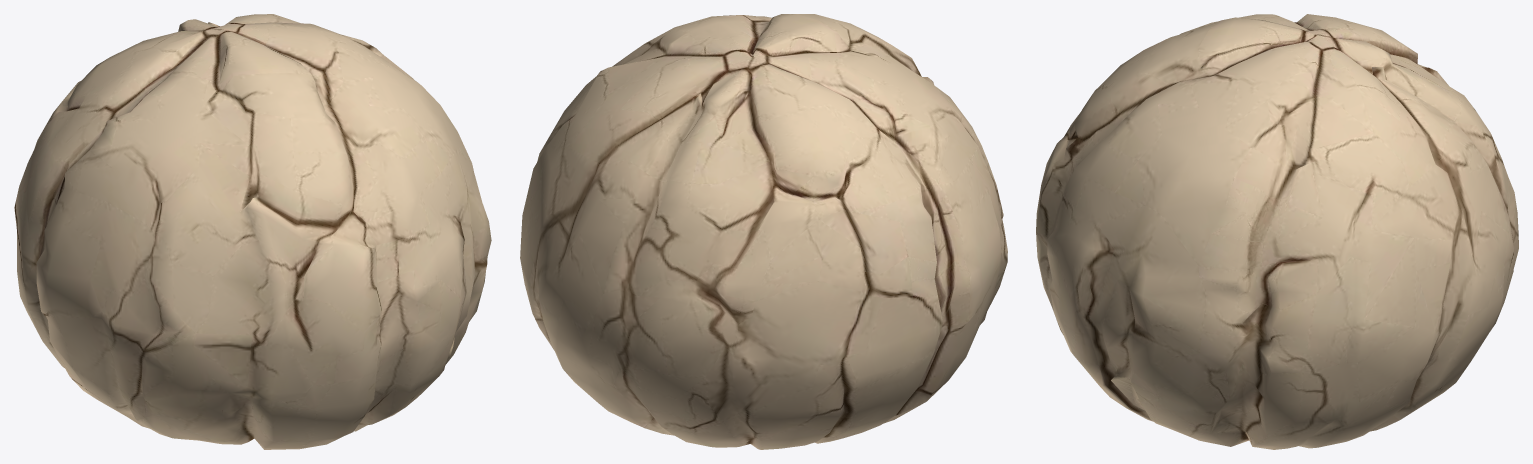
Rendered from fossil.glb.
3 views of the same model, side by side, from view 1: azimuth 30°, elevation 25°; view 2: azimuth 150°, elevation 25°; view 3: azimuth 270°, elevation 25° (orthographic). The views are drawn at different scales.
Bounding box in the file's own units: 0.957 × 0.7886 × 0.9585.
1 material, 1 textured.
